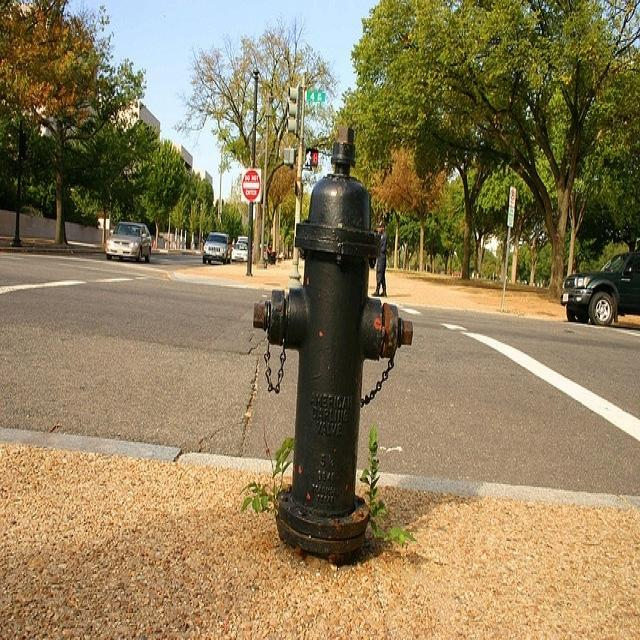fire_hydrant: (214, 112, 451, 601)
